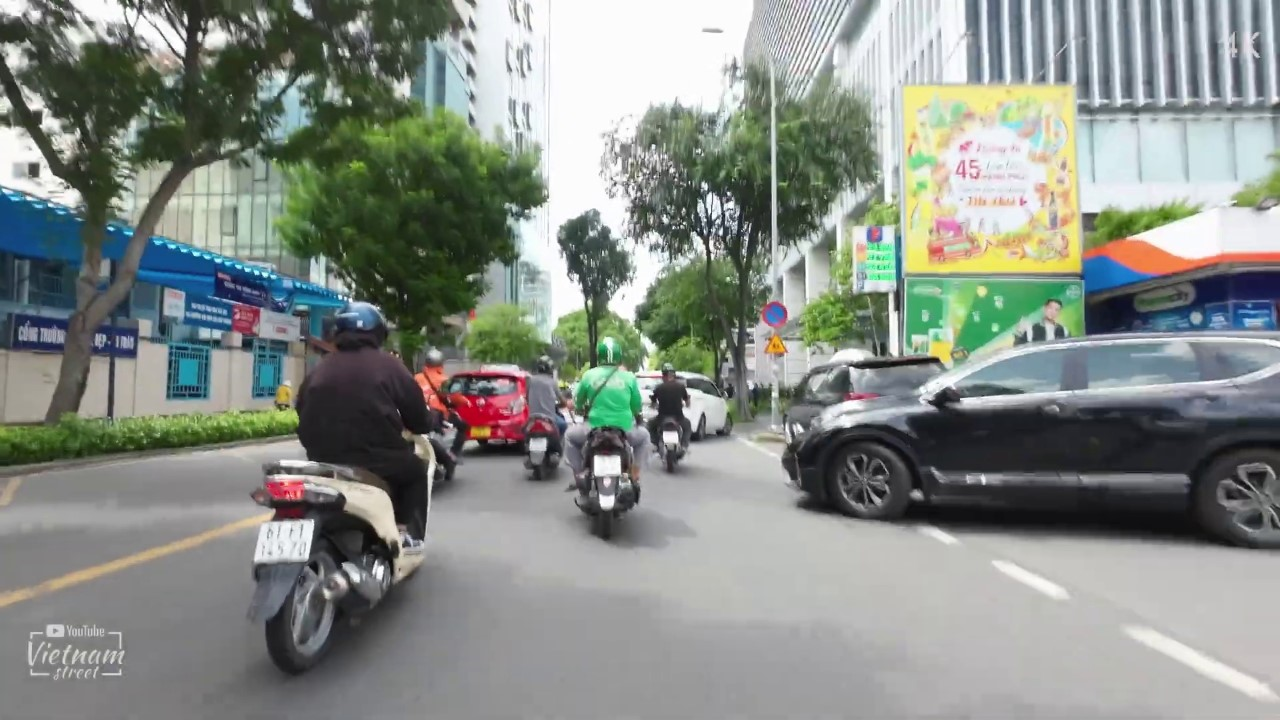cam_do_xe: (761, 301, 788, 328)
